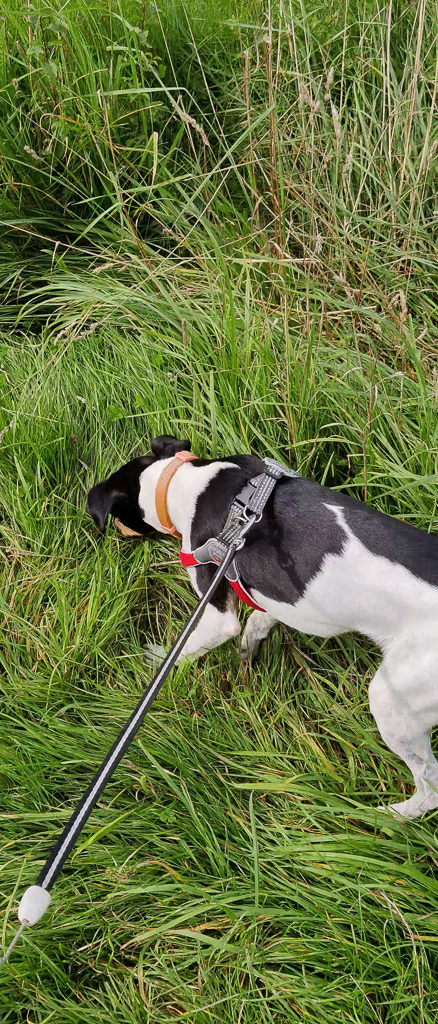Dog: (79, 418, 438, 837)
